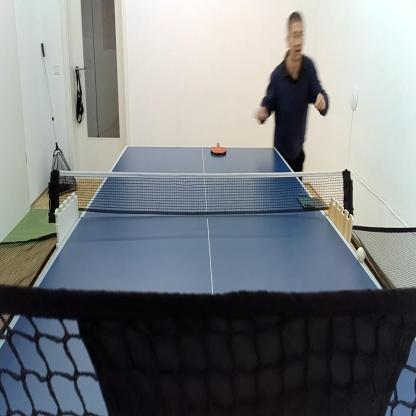Ball: (357, 247, 366, 262)
